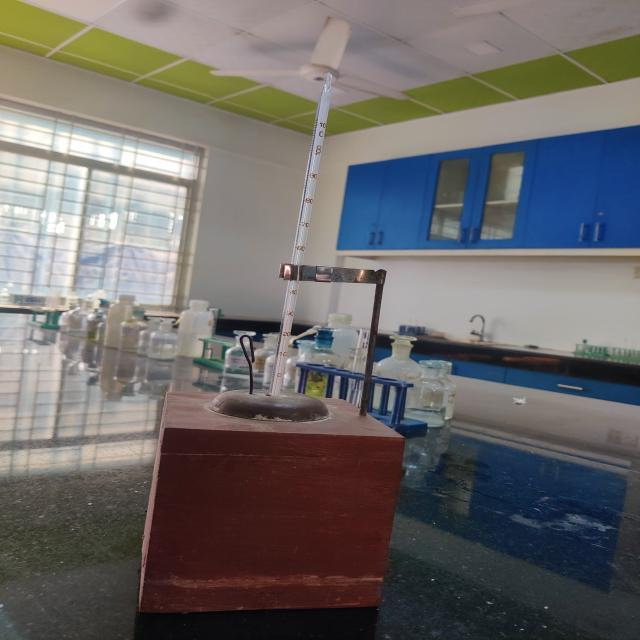Calorimeter: (109, 64, 474, 625)
